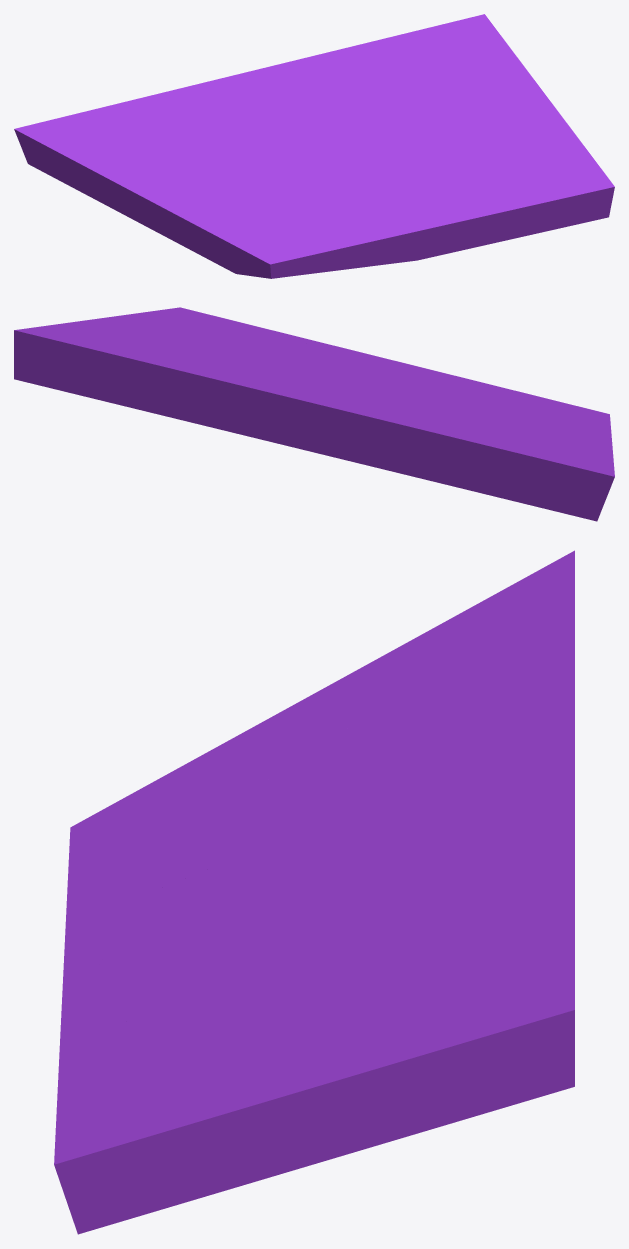
File: Window_155_3_chunks.fbx
The picture shows the model from 3 angles, top to bottom: view 1: azimuth 30°, elevation 25°; view 2: azimuth 150°, elevation 25°; view 3: azimuth 270°, elevation 25°; orthographic projection. The views are drawn at different scales.
Visible parts, largest first — view 1: Window_155_3_7, Window_155_3_6, Window_155_3_15, Window_155_3_4, Window_155_3_12, Window_155_3_11, Window_155_3_14, Window_155_3_18, Window_155_3_13, Window_155_3_9, Window_155_3_10, Window_155_3_17 (+4 smaller); view 2: Window_155_3_7, Window_155_3_18, Window_155_3_14, Window_155_3_15, Window_155_3_4, Window_155_3_6, Window_155_3_16, Window_155_3_11, Window_155_3_5, Window_155_3_13, Window_155_3_12, Window_155_3_10 (+2 smaller); view 3: Window_155_3_7, Window_155_3_6, Window_155_3_4, Window_155_3_11, Window_155_3_15, Window_155_3_14, Window_155_3_18, Window_155_3_13, Window_155_3_12, Window_155_3_10, Window_155_3_17, Window_155_3_9.
Part boxes in pixels (left/top/right/bottom): Window_155_3_7: left=322, top=14, right=570, bottom=144; Window_155_3_6: left=442, top=129, right=614, bottom=242; Window_155_3_15: left=14, top=110, right=184, bottom=202; Window_155_3_4: left=295, top=54, right=449, bottom=184; Window_155_3_12: left=101, top=173, right=260, bottom=268; Window_155_3_11: left=309, top=157, right=522, bottom=241; Window_155_3_14: left=247, top=60, right=342, bottom=170; Window_155_3_18: left=92, top=72, right=247, bottom=146; Window_155_3_13: left=213, top=146, right=326, bottom=229; Window_155_3_9: left=320, top=216, right=484, bottom=262; Window_155_3_10: left=240, top=187, right=346, bottom=269; Window_155_3_17: left=176, top=122, right=247, bottom=176; Window_155_3_7: left=14, top=315, right=257, bottom=403; Window_155_3_18: left=317, top=404, right=515, bottom=477; Window_155_3_14: left=256, top=383, right=435, bottom=460; Window_155_3_15: left=501, top=431, right=614, bottom=521; Window_155_3_4: left=218, top=352, right=370, bottom=439; Window_155_3_6: left=125, top=307, right=328, bottom=357; Window_155_3_16: left=416, top=457, right=573, bottom=515; Window_155_3_11: left=295, top=336, right=469, bottom=396; Window_155_3_5: left=116, top=393, right=251, bottom=437; Window_155_3_13: left=407, top=389, right=561, bottom=422; Window_155_3_12: left=512, top=414, right=612, bottom=450; Window_155_3_10: left=451, top=388, right=610, bottom=421; Window_155_3_7: left=228, top=850, right=574, bottom=1170; Window_155_3_6: left=54, top=990, right=290, bottom=1234; Window_155_3_4: left=167, top=824, right=574, bottom=991; Window_155_3_11: left=58, top=856, right=298, bottom=1074; Window_155_3_15: left=347, top=550, right=574, bottom=728; Window_155_3_14: left=274, top=778, right=574, bottom=885; Window_155_3_18: left=429, top=626, right=574, bottom=785; Window_155_3_13: left=164, top=757, right=386, bottom=872; Window_155_3_12: left=129, top=667, right=362, bottom=813; Window_155_3_10: left=68, top=795, right=241, bottom=898; Window_155_3_17: left=340, top=716, right=445, bottom=788; Window_155_3_9: left=60, top=879, right=134, bottom=1036.
Bounding box in the file's own units: 1285 × 293 × 615.
